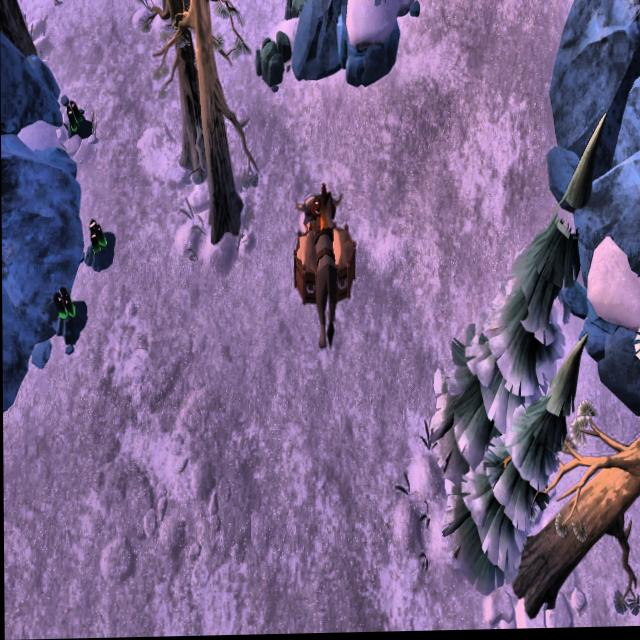ore_t3: (52, 283, 77, 330), (87, 214, 105, 259), (66, 102, 85, 136)
rock_t3: (254, 33, 294, 93), (283, 0, 311, 22)
